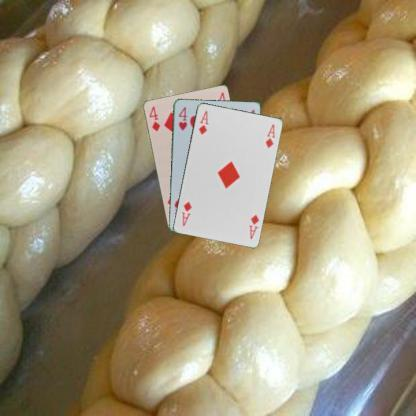4d: (146, 104, 161, 132)
4h: (176, 104, 188, 132)
Ad: (196, 108, 210, 136), (246, 212, 260, 240)
